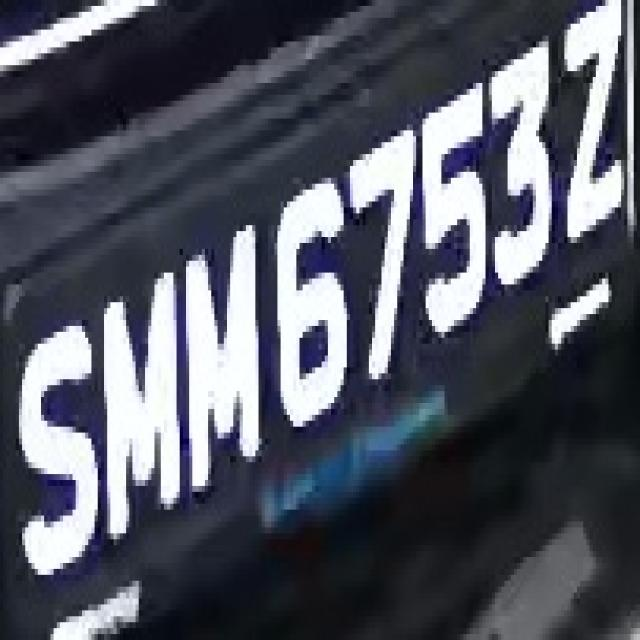3: (485, 42, 555, 302)
5: (416, 83, 501, 350)
6: (262, 172, 359, 456)
7: (344, 130, 435, 403)
M: (180, 231, 277, 510), (98, 273, 192, 557)
S: (3, 320, 98, 593)
Z: (555, 6, 630, 267)
